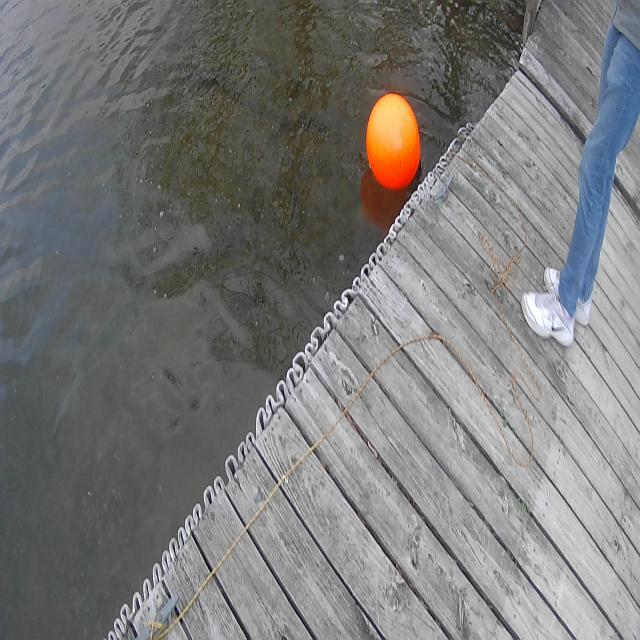Buoy: (361, 85, 432, 202)
